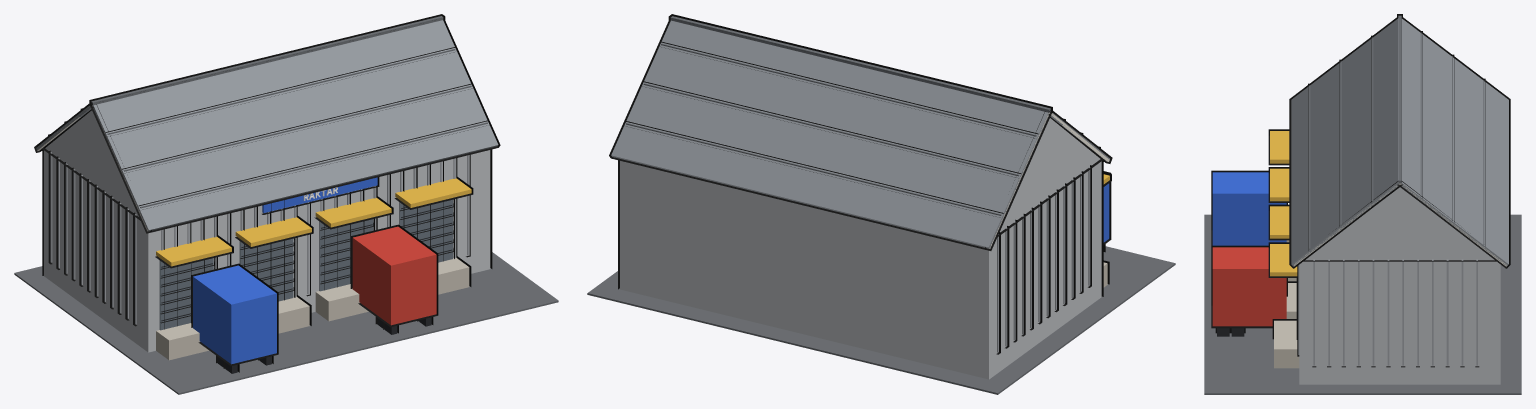
File: Sanayi_depo_1.fbx
3 views of the same model, side by side, from view 1: azimuth 30°, elevation 25°; view 2: azimuth 150°, elevation 25°; view 3: azimuth 270°, elevation 25° (orthographic). The views are drawn at different scales.
Visible parts, largest first — view 1: Sanayi_depo_1; view 2: Sanayi_depo_1; view 3: Sanayi_depo_1.
Boxes of the visible parts, x1=… form: Sanayi_depo_1: x1=14, y1=14, x2=558, y2=394; Sanayi_depo_1: x1=587, y1=14, x2=1175, y2=394; Sanayi_depo_1: x1=1204, y1=14, x2=1521, y2=394.
Size of the model in its own units: 20 by 10.87 by 15.
